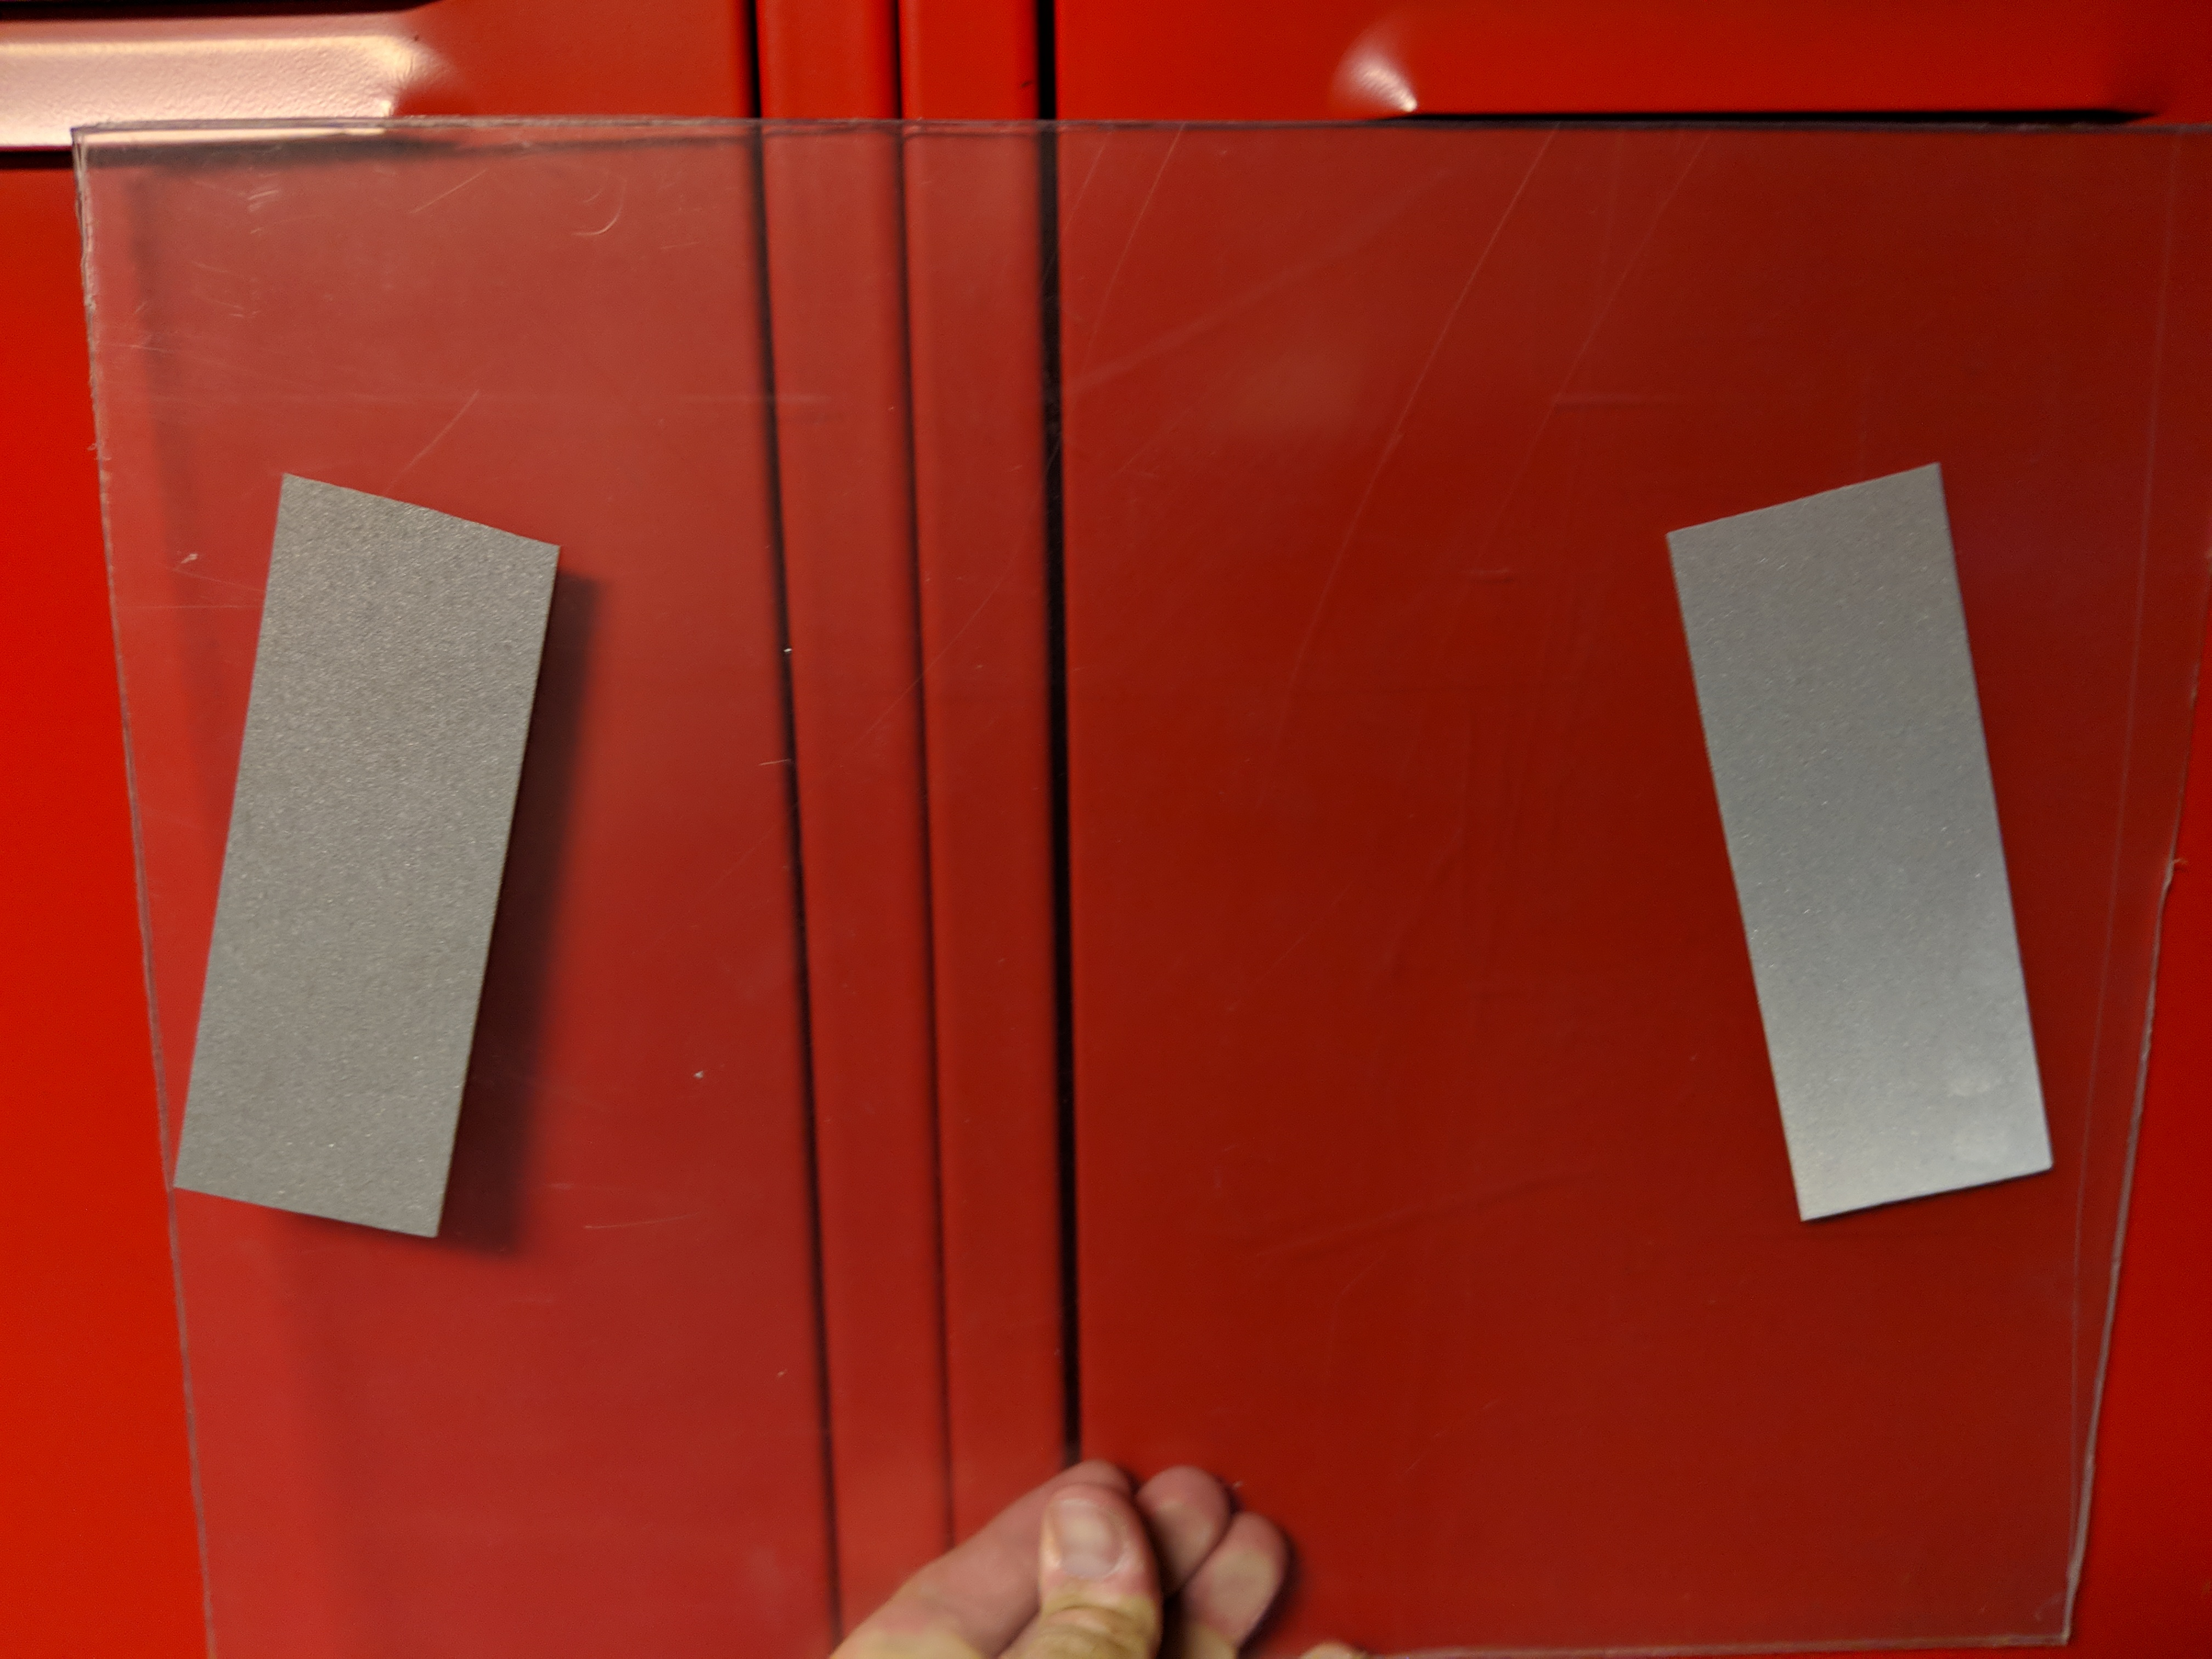vision_target: (153, 451, 2076, 1270)
